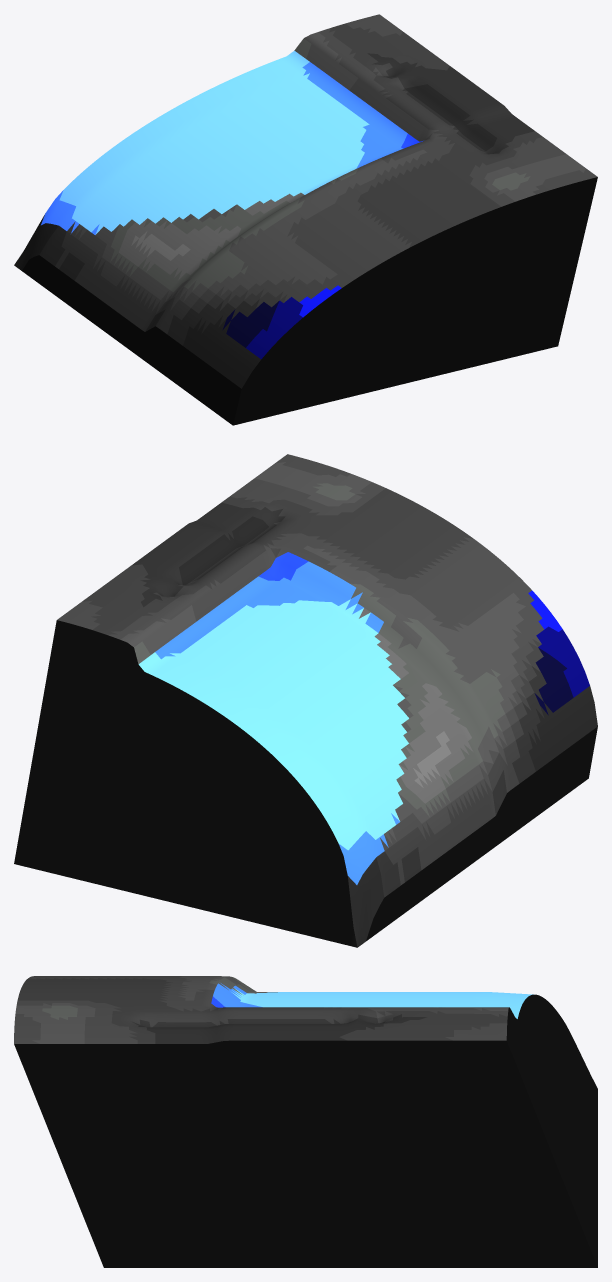
Rendered from time_capsule_126.glb.
3 renders of one model, top to bottom at view 1: azimuth 30°, elevation 25°; view 2: azimuth 150°, elevation 25°; view 3: azimuth 270°, elevation 25°, orthographic. The views are drawn at different scales.
Visible parts, largest first — view 1: time_capsule_126; view 2: time_capsule_126; view 3: time_capsule_126.
Part boxes in pixels (bbox=[...]): time_capsule_126: bbox=[14, 14, 597, 425]; time_capsule_126: bbox=[14, 454, 597, 947]; time_capsule_126: bbox=[14, 976, 597, 1267].
Bounding box in the file's own units: 24 × 14.2 × 33.1.
